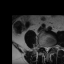CCS_normal: (46, 44, 48, 54)
LFS_stenosis: (50, 43, 52, 49)
LLS_normal: (48, 44, 50, 52)
RFS_normal: (41, 43, 43, 50)
RLS_normal: (43, 44, 46, 52)
